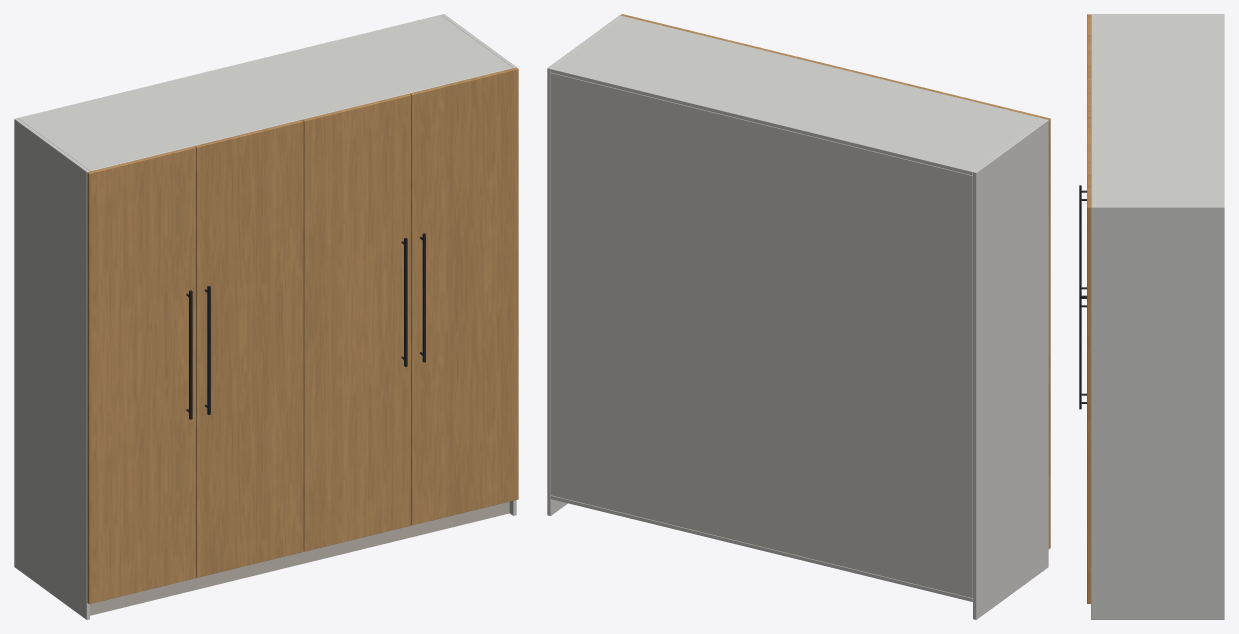
File: storage_cabinet_5.glb
3 renders of one model, left to right at view 1: azimuth 30°, elevation 25°; view 2: azimuth 150°, elevation 25°; view 3: azimuth 270°, elevation 25°, orthographic. The views are drawn at different scales.
Parts seen in each view (by area): view 1: storage_cabinet_5_carcass, storage_cabinet_5_door_1, storage_cabinet_5_door_3, storage_cabinet_5_door_4, storage_cabinet_5_door_2, storage_cabinet_5_plinth; view 2: storage_cabinet_5_carcass, storage_cabinet_5_door_1; view 3: storage_cabinet_5_carcass, storage_cabinet_5_door_4, storage_cabinet_5_handle_4, storage_cabinet_5_handle_2.
Part boxes in pixels (x1,y1,x2,y2): storage_cabinet_5_carcass: [14, 14, 516, 619]; storage_cabinet_5_door_1: [87, 146, 195, 604]; storage_cabinet_5_door_3: [302, 94, 411, 551]; storage_cabinet_5_door_4: [410, 67, 518, 525]; storage_cabinet_5_door_2: [194, 120, 303, 577]; storage_cabinet_5_plinth: [90, 501, 509, 615]; storage_cabinet_5_carcass: [547, 15, 1048, 619]; storage_cabinet_5_door_1: [942, 92, 1050, 548]; storage_cabinet_5_carcass: [1091, 14, 1224, 619]; storage_cabinet_5_door_4: [1087, 159, 1090, 603]; storage_cabinet_5_handle_4: [1079, 290, 1086, 409]; storage_cabinet_5_handle_2: [1079, 193, 1086, 307].
Bounding box in the file's own units: 2.11 × 2.1 × 0.671.
4 materials, 1 textured.
